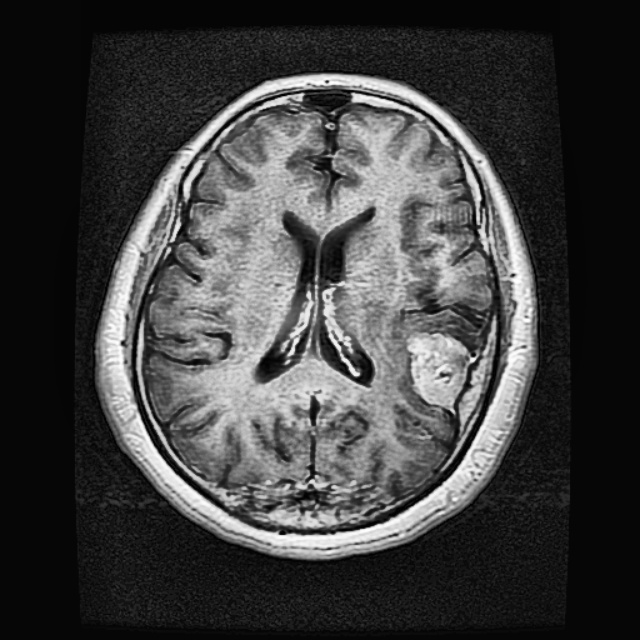Pituitary: (408, 332, 468, 408)
